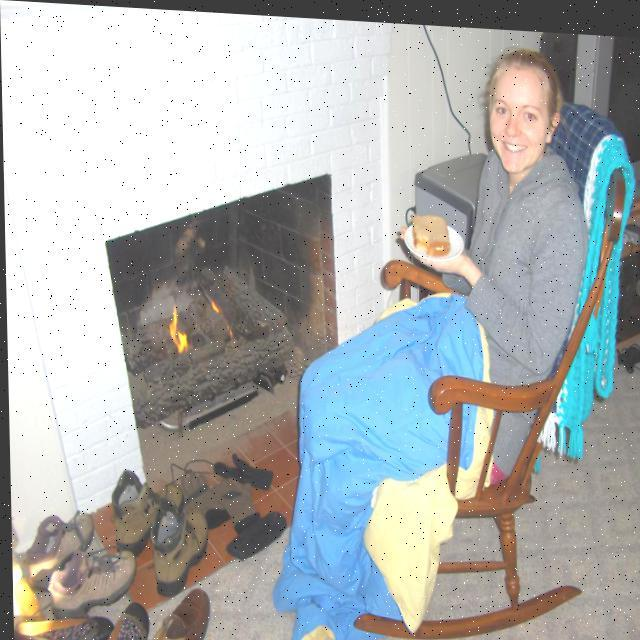Fire: (164, 290, 238, 368)
